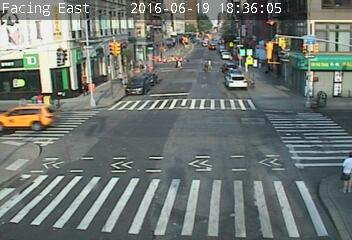neg: (6, 128, 28, 157), (287, 137, 308, 164), (166, 144, 185, 168), (308, 12, 326, 36), (299, 106, 316, 128), (263, 173, 279, 194), (134, 154, 149, 174), (97, 108, 112, 127), (82, 10, 97, 29), (119, 122, 133, 142), (167, 97, 181, 116), (325, 71, 339, 90), (242, 10, 256, 28), (215, 102, 228, 120), (66, 149, 79, 167), (257, 83, 270, 100), (28, 4, 41, 21), (279, 33, 292, 49), (69, 184, 82, 200), (32, 94, 44, 110), (105, 154, 117, 170), (35, 168, 47, 184), (122, 46, 133, 61), (239, 171, 250, 186), (123, 7, 134, 22), (53, 186, 64, 200), (257, 109, 268, 123), (104, 23, 115, 36), (206, 141, 216, 155), (5, 27, 15, 41), (238, 136, 248, 149), (143, 12, 152, 24), (110, 195, 119, 206), (205, 12, 213, 23), (60, 28, 68, 39), (180, 193, 188, 203), (31, 50, 36, 58), (64, 116, 69, 123)
pos: (327, 146, 351, 195), (200, 54, 217, 77), (76, 76, 90, 95), (174, 56, 184, 68)
